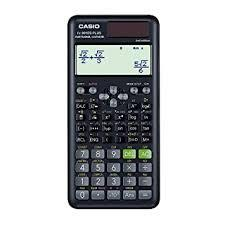Calculator: (60, 10, 164, 213)
